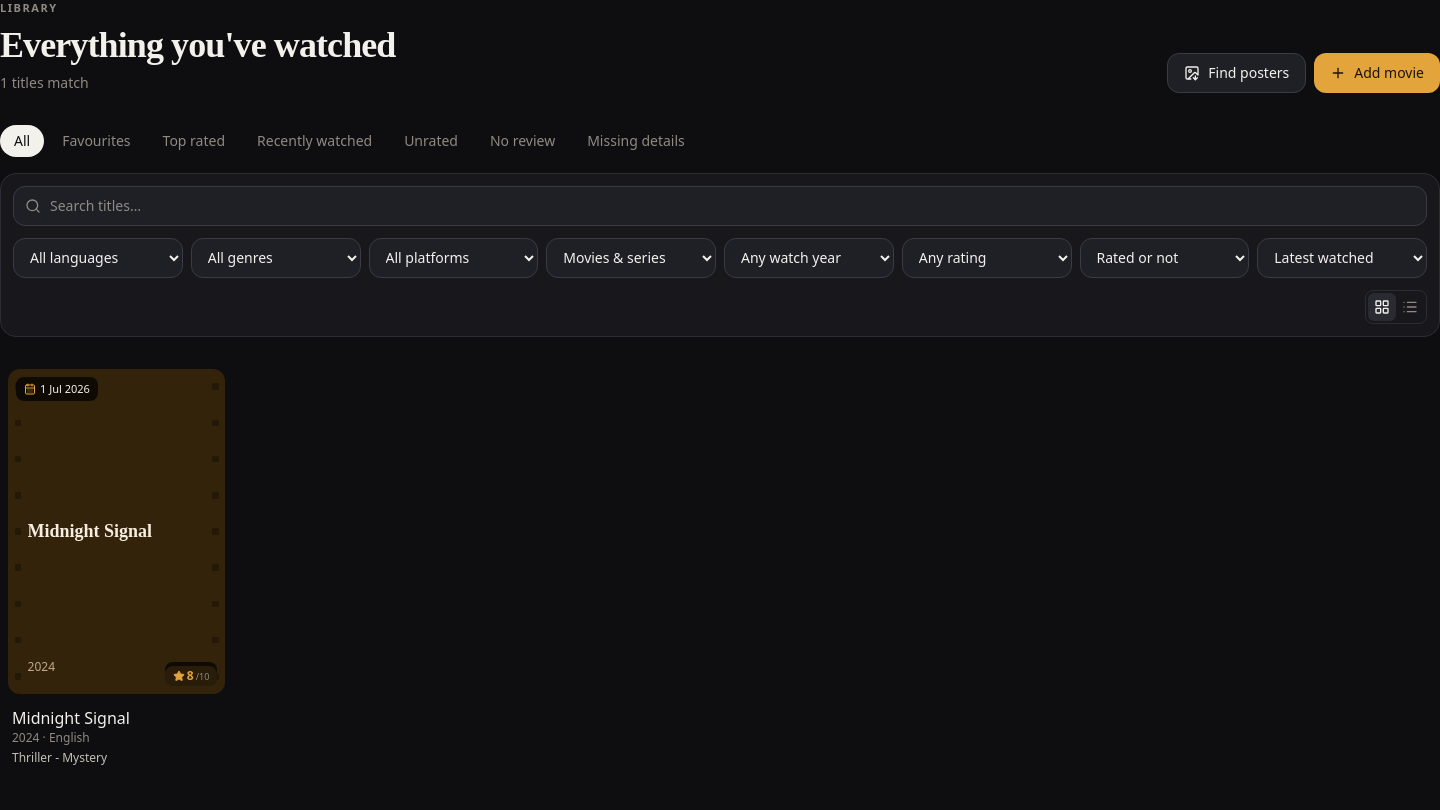
Scenario: Finding posters from the library › runs batches until nothing remains and reports misses
Click the button "Find posters": (1237,72) [1167,52,1306,92]
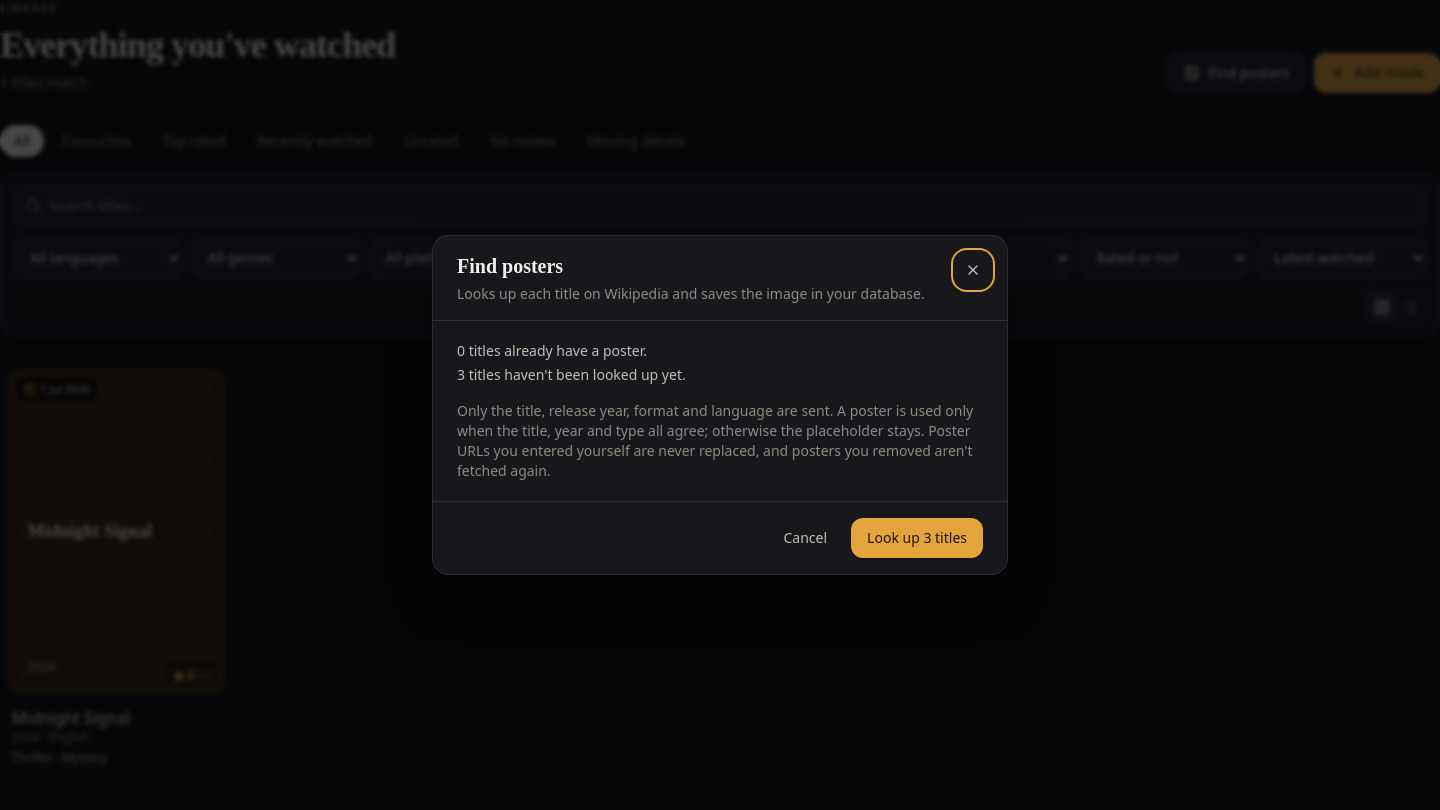
Click the button "Look up 3 titles": (917,538) [851,518,983,558]
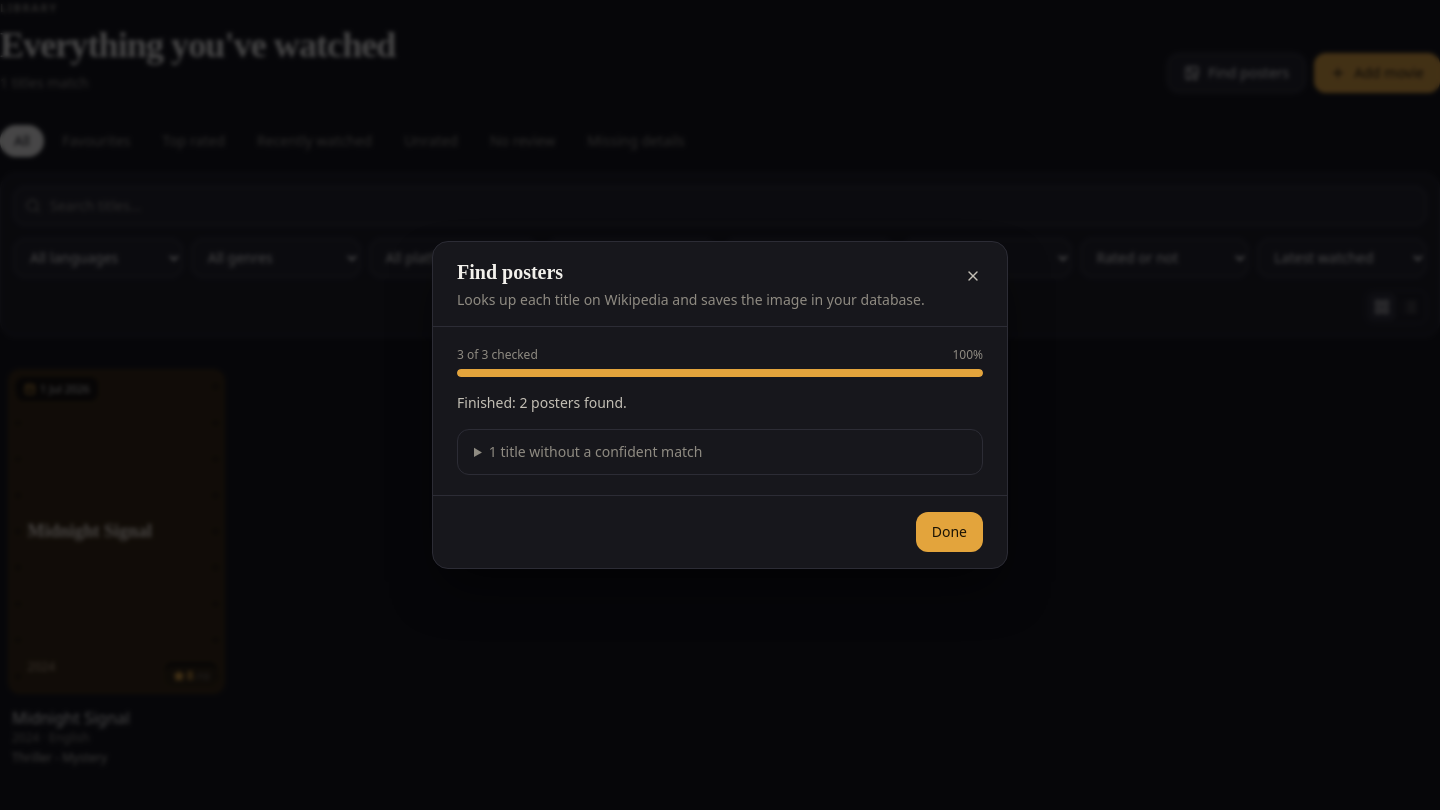
Check: the text "Finished: 2 posters found." is shown, box [457,393,627,412]
Check: the heading "1 title without a confident match" is shown, box [489,442,702,461]
